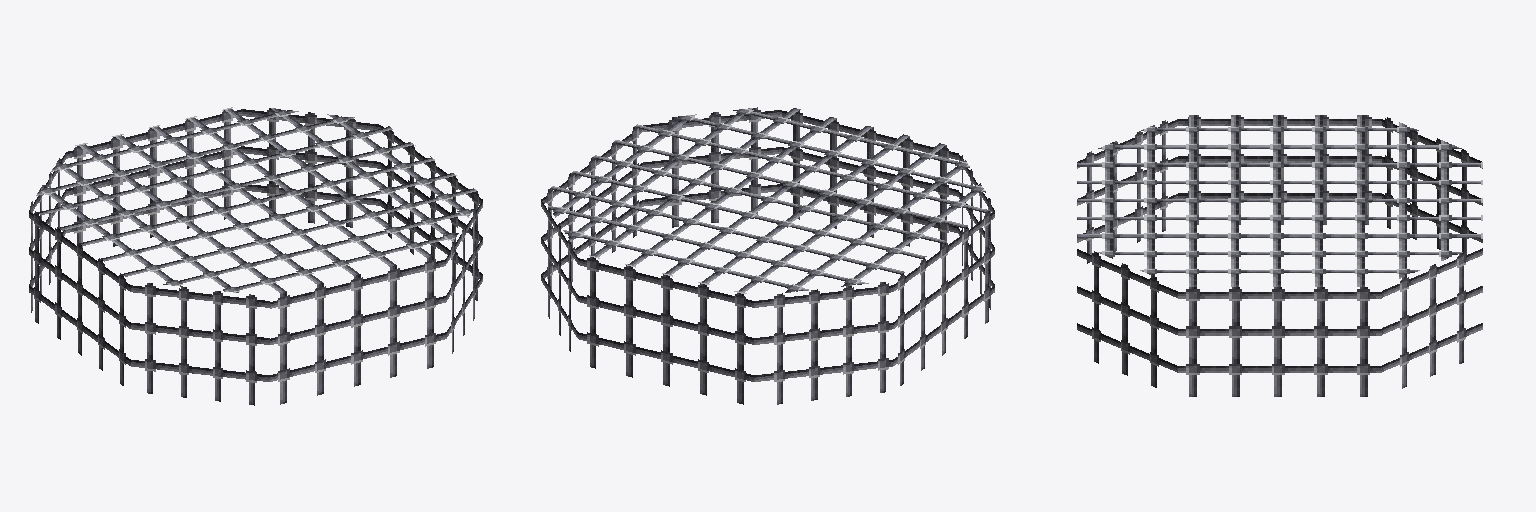
3 views of the same model, side by side, from view 1: azimuth 30°, elevation 25°; view 2: azimuth 150°, elevation 25°; view 3: azimuth 270°, elevation 25° (orthographic).
Visible parts, largest first — view 1: world_root; view 2: world_root; view 3: world_root.
Part boxes in pixels (left/top/right/bottom): world_root: left=29, top=107, right=482, bottom=405; world_root: left=541, top=107, right=994, bottom=404; world_root: left=1077, top=115, right=1482, bottom=396.
Bounding box in the file's own units: 62.5 × 18.75 × 62.5.
Materials: 1 (1 with a texture image).